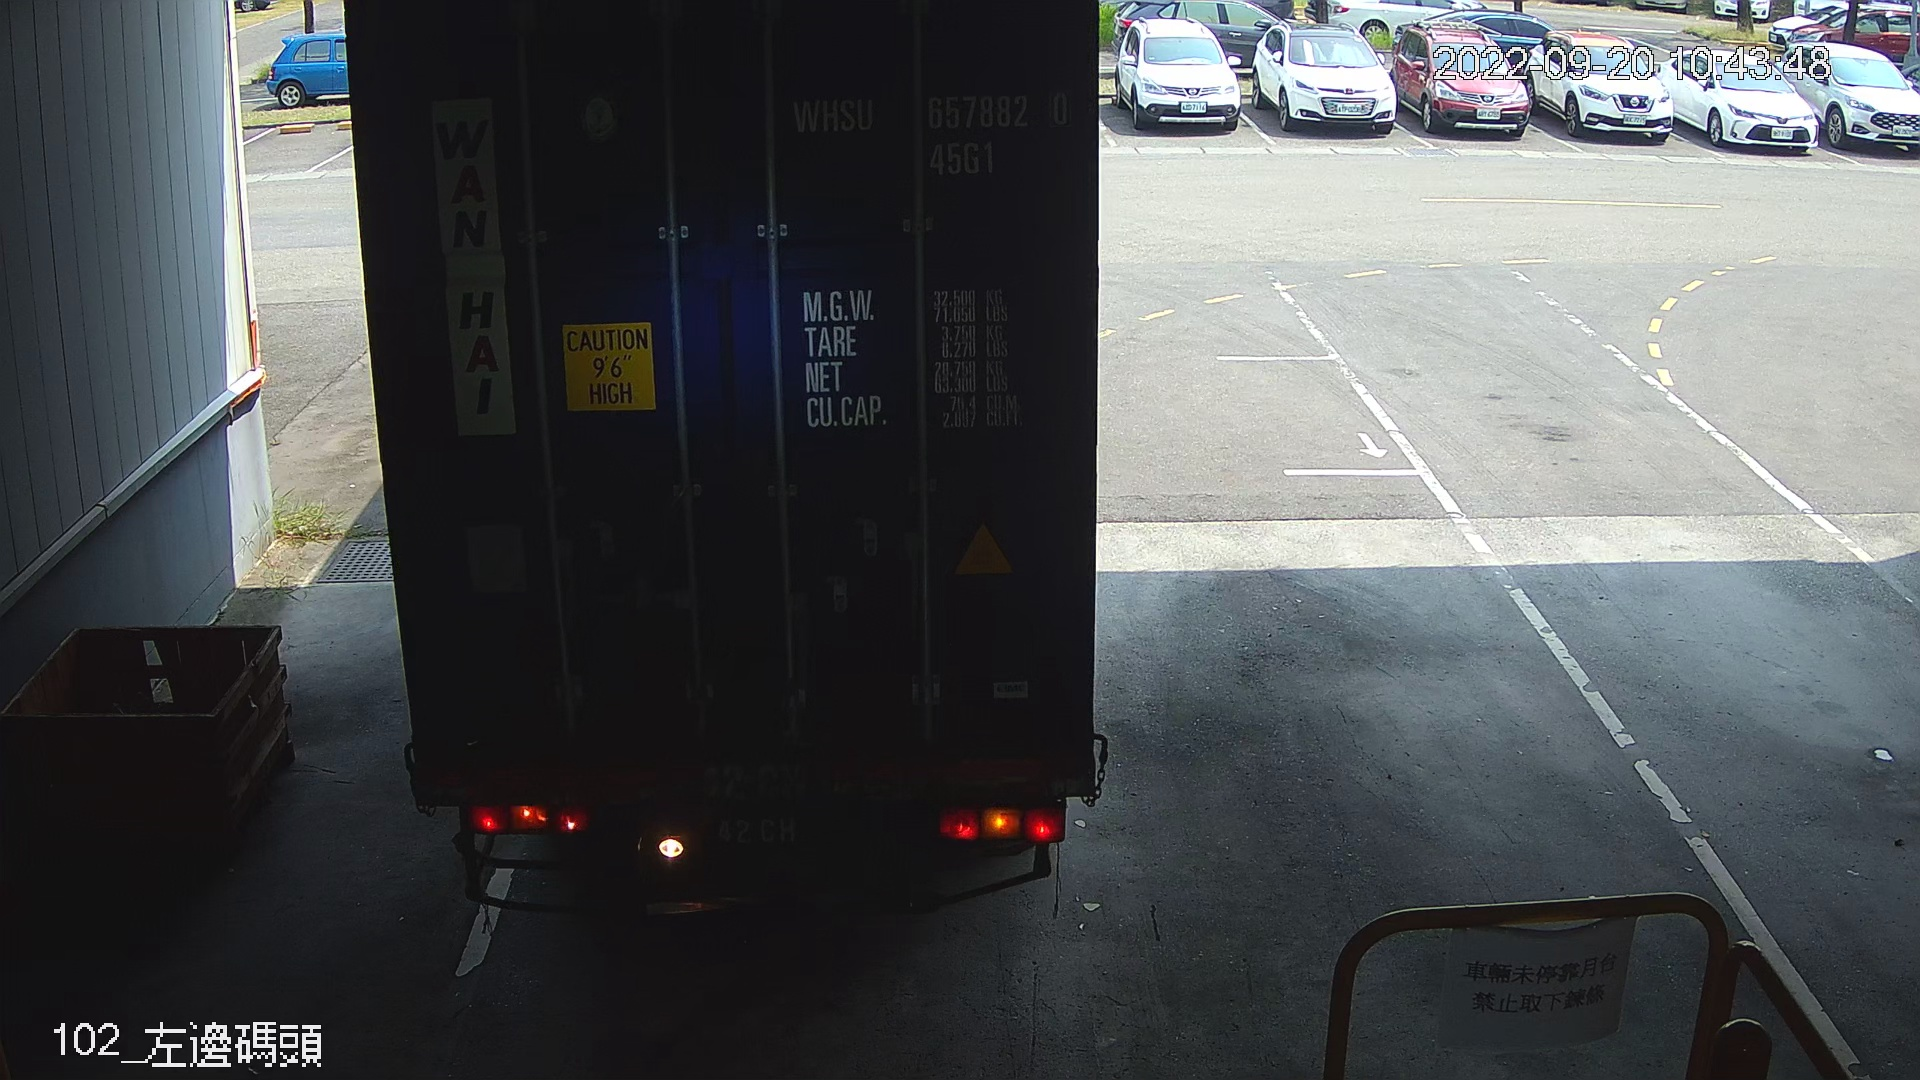container: (778, 80, 1079, 185)
